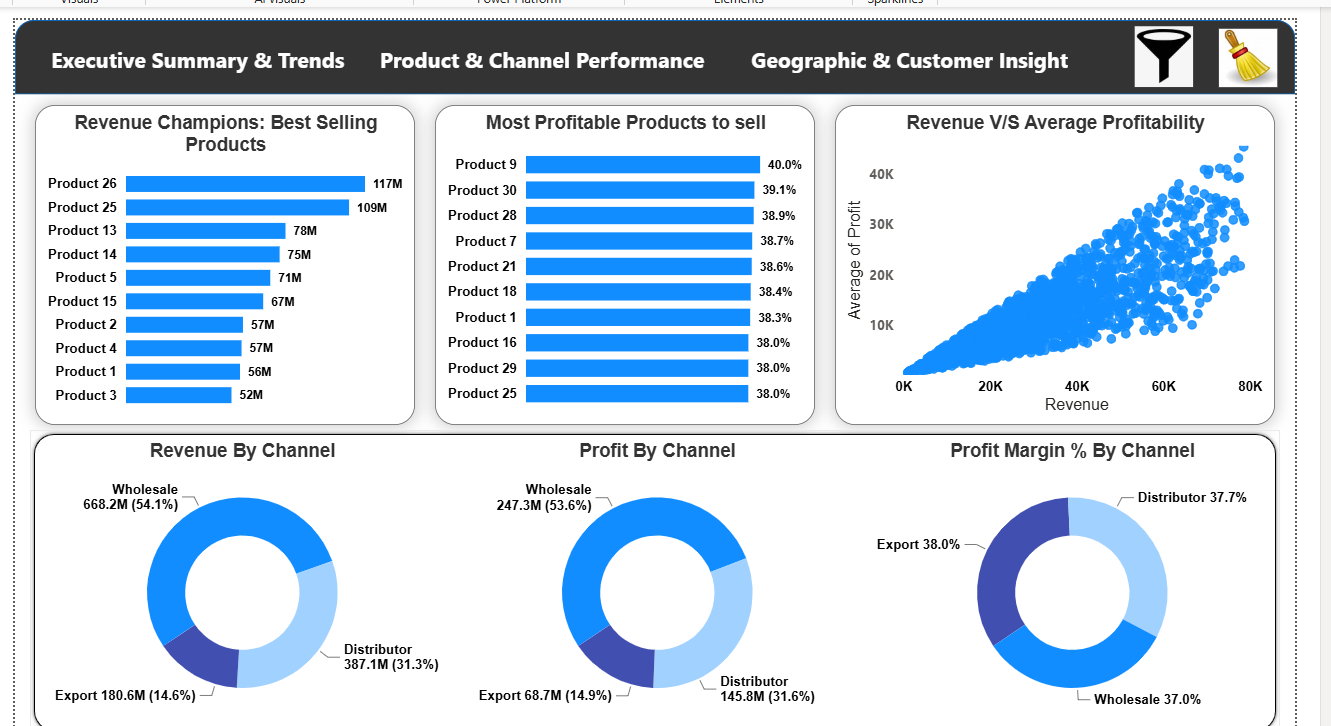

What the dashboard file says about the page in this screenshot:
{"tool":"powerbi","page":{"name":"Product & Channel Performance ","canvas":[1280,720],"ordinal":1},"visuals":[{"type":"shape","box":[0,0,1280.3,74.6],"z":0},{"type":"image","box":[1112.8,6.1,73.4,61.1],"z":1000},{"type":"image","box":[1197.2,8.6,70.9,58.7],"z":2000},{"type":"textbox","box":[31.8,19.6,310.6,47.7],"z":3000},{"type":"textbox","box":[359.5,19.6,351,47.7],"z":4000},{"type":"textbox","box":[731.3,19.6,371.7,47.7],"z":5000},{"type":"actionButton","box":[722.7,19.6,351,47.7],"z":6000},{"type":"actionButton","box":[31.8,19.6,310.6,47.7],"z":7000},{"type":"clusteredBarChart","title":"Revenue Champions: Best Selling Products","fields":{"Category":["B2_Mini_Mart.product_name"],"Y":["Sum(B2_Mini_Mart.Revenue)"]},"box":[20,85,380,320],"z":8000},{"type":"clusteredBarChart","title":"Most Profitable Products to sell","fields":{"Category":["B2_Mini_Mart.product_name"],"Y":["Measure Table.profit_margin"]},"box":[420,85.1,380.1,320],"z":9000},{"type":"scatterChart","title":"Revenue V/S Average Profitability","fields":{"X":["B2_Mini_Mart.Revenue"],"Y":["Avg(B2_Mini_Mart.Profit)"]},"box":[820,85.1,440,320],"z":10000},{"type":"shape","box":[15,410,1250,305],"z":11000},{"type":"donutChart","title":"Revenue By Channel","fields":{"Category":["B2_Mini_Mart.channel"],"Y":["Sum(B2_Mini_Mart.Revenue)"]},"box":[20,420,415,285],"z":12000},{"type":"donutChart","title":"Profit By Channel","fields":{"Category":["B2_Mini_Mart.channel"],"Y":["Sum(B2_Mini_Mart.Profit)"]},"box":[435,420,415,285],"z":13000},{"type":"donutChart","title":"Profit Margin % By Channel","fields":{"Category":["B2_Mini_Mart.channel"],"Y":["Measure Table.profit_margin"]},"box":[850,420,415,285],"z":14000}]}

Visuals, with their boxes on the page's 1280x720 design canvas (x1, y1, x2, y2). These are canvas units, not pixel positions in the 1331x726 screenshot, which may show the page scaled, cropped or inside an application window:
shape: crop(0, 0, 1280, 75)
image: crop(1113, 6, 1186, 67)
image: crop(1197, 9, 1268, 67)
textbox: crop(32, 20, 342, 67)
textbox: crop(360, 20, 710, 67)
textbox: crop(731, 20, 1103, 67)
actionButton: crop(723, 20, 1074, 67)
actionButton: crop(32, 20, 342, 67)
"Revenue Champions: Best Selling Products" clusteredBarChart: crop(20, 85, 400, 405)
"Most Profitable Products to sell" clusteredBarChart: crop(420, 85, 800, 405)
"Revenue V/S Average Profitability" scatterChart: crop(820, 85, 1260, 405)
shape: crop(15, 410, 1265, 715)
"Revenue By Channel" donutChart: crop(20, 420, 435, 705)
"Profit By Channel" donutChart: crop(435, 420, 850, 705)
"Profit Margin % By Channel" donutChart: crop(850, 420, 1265, 705)
